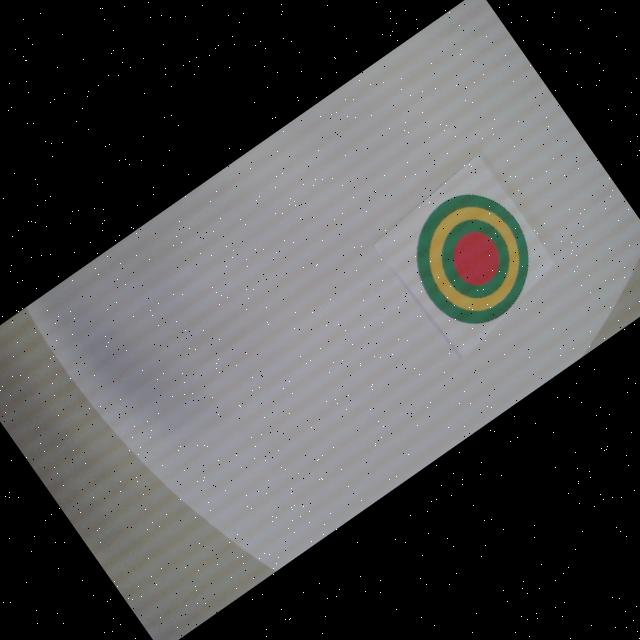COGNITIVE: (388, 172, 558, 344)
